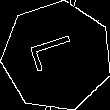L_E: (28, 33, 85, 79)
